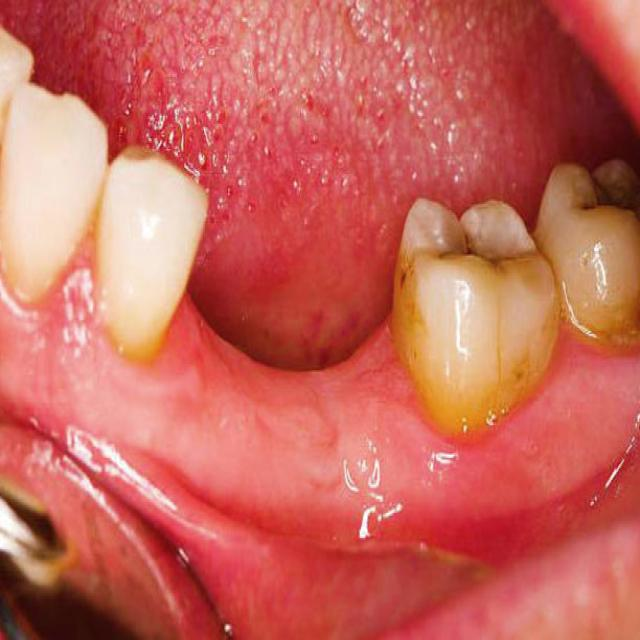caries: (430, 208, 523, 284), (569, 162, 640, 220)
